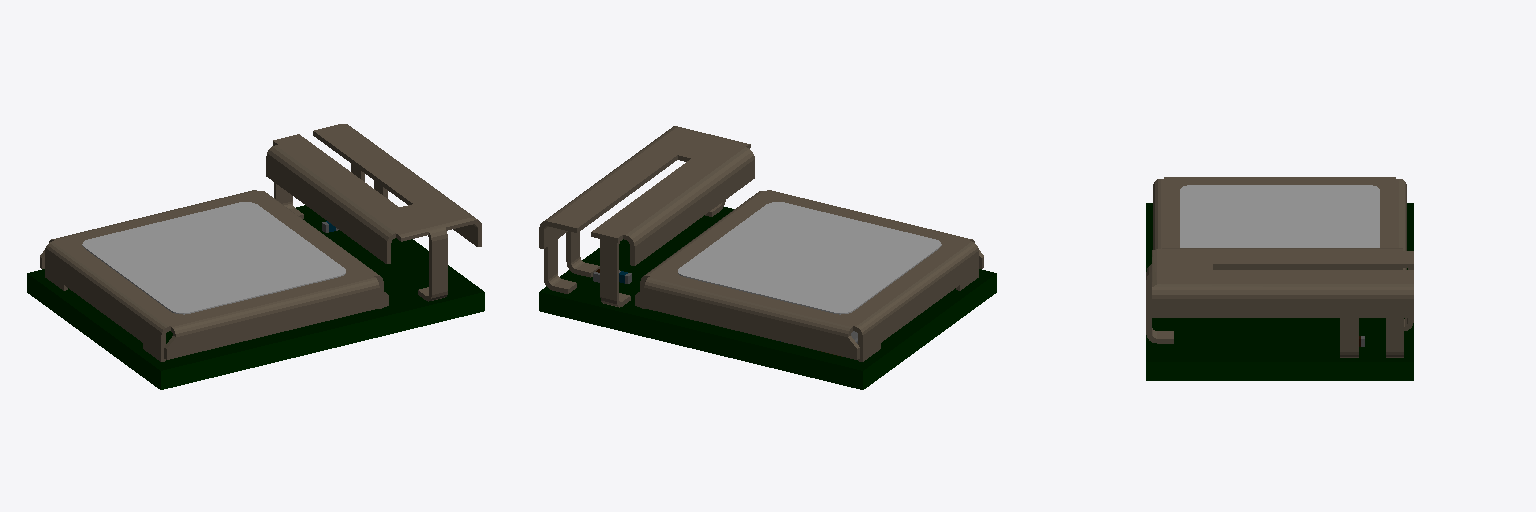
Rendered from NINA-B112.obj.
3 views of the same model, side by side, from view 1: azimuth 30°, elevation 25°; view 2: azimuth 150°, elevation 25°; view 3: azimuth 270°, elevation 25° (orthographic).
Parts seen in each view (by area): view 1: NI_Part49.58, NI_NINA_BxxxLabel.4, NI_PCB, NI_PCB.4, NI_PCB.2; view 2: NI_Part49.58, NI_NINA_BxxxLabel.4, NI_PCB, NI_PCB.5, NI_PCB.2; view 3: NI_Part49.58, NI_NINA_BxxxLabel.4, NI_PCB, NI_PCB.2.
Boxes of the visible parts, box(x1,y1,x2,y2) form: NI_Part49.58: box(40, 124, 481, 361); NI_NINA_BxxxLabel.4: box(82, 202, 345, 312); NI_PCB: box(28, 205, 483, 370); NI_PCB.4: box(161, 292, 484, 389); NI_PCB.2: box(27, 273, 160, 389); NI_Part49.58: box(539, 126, 983, 361); NI_NINA_BxxxLabel.4: box(678, 202, 941, 312); NI_PCB: box(540, 207, 995, 370); NI_PCB.5: box(539, 292, 862, 389); NI_PCB.2: box(863, 273, 996, 389); NI_Part49.58: box(1146, 177, 1413, 357); NI_NINA_BxxxLabel.4: box(1180, 185, 1379, 247); NI_PCB: box(1146, 203, 1413, 361); NI_PCB.2: box(1146, 362, 1413, 380).
Bounding box in the file's own units: 14 × 3.81 × 10.